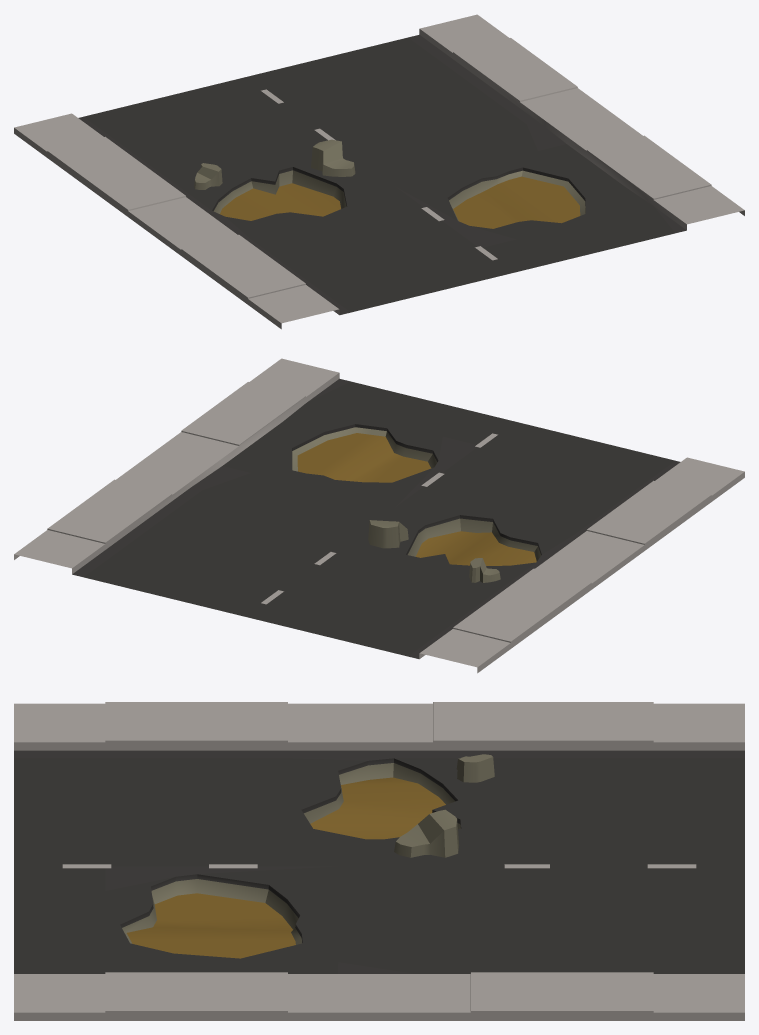
File: street-straight-crack2.glb
The picture shows the model from 3 angles, top to bottom: view 1: azimuth 30°, elevation 25°; view 2: azimuth 150°, elevation 25°; view 3: azimuth 270°, elevation 25°; orthographic projection. The views are drawn at different scales.
Visible parts, largest first — view 1: Street_Straight_Crack2; view 2: Street_Straight_Crack2; view 3: Street_Straight_Crack2.
Part boxes in pixels (x1,y1,x2,y2): Street_Straight_Crack2: (14,14,744,329); Street_Straight_Crack2: (14,358,744,673); Street_Straight_Crack2: (14,702,744,1020).
Size of the model in its own units: 8 by 0.5801 by 8.
